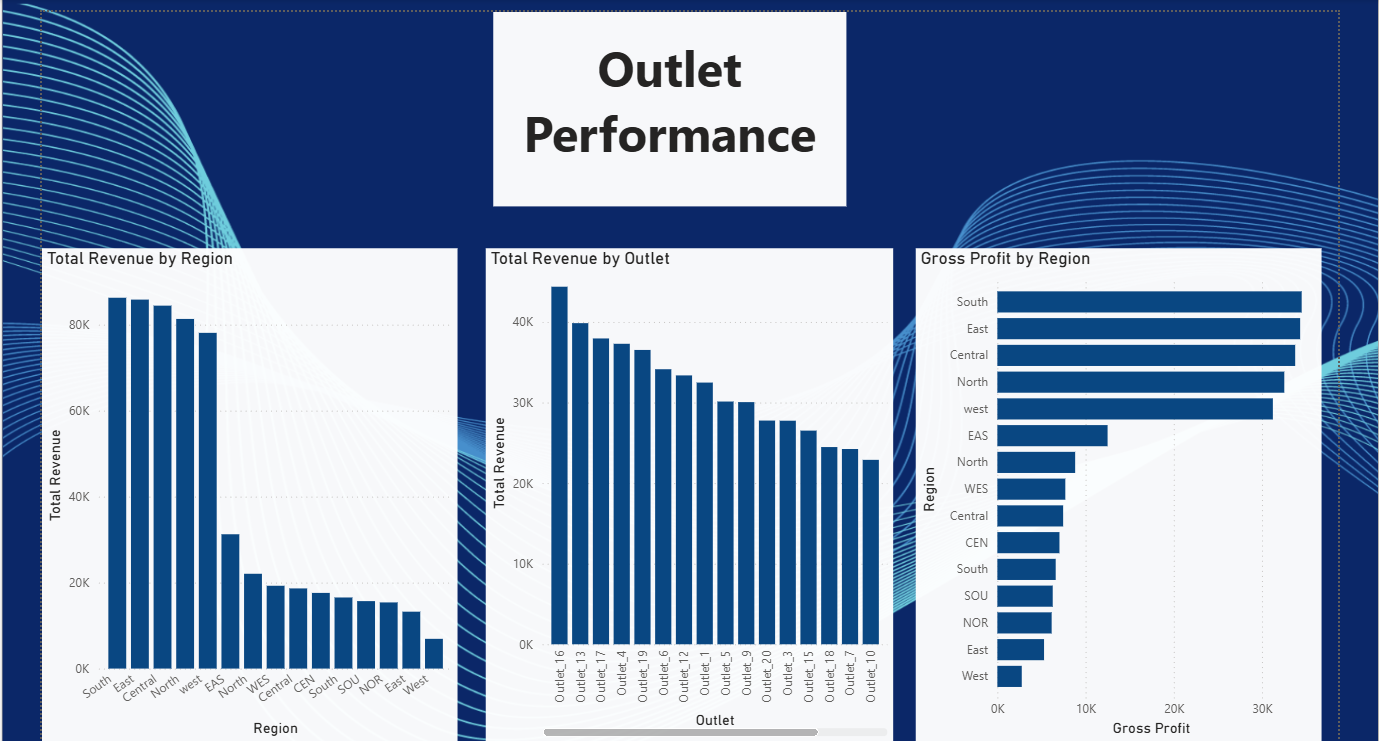

Layout of this report page (visuals, bound fields, positions):
{"tool":"powerbi","page":{"name":"Page 5","canvas":[1280,720],"ordinal":4},"visuals":[{"type":"textbox","box":[446,0,348.5,192.1],"z":0},{"type":"clusteredColumnChart","fields":{"Category":["pizza_sales_messy_1000.Region"],"Y":["pizza_sales_messy_1000.Total Revenue"]},"box":[0,233.3,410.3,487.1],"z":1000},{"type":"columnChart","fields":{"Category":["pizza_sales_messy_1000.Outlet"],"Y":["pizza_sales_messy_1000.Total Revenue"]},"box":[437.7,233.3,402.1,487.1],"z":2000},{"type":"barChart","fields":{"Category":["pizza_sales_messy_1000.Region"],"Y":["pizza_sales_messy_1000.Gross Profit"]},"box":[863.1,233.3,400.7,487.1],"z":3000}]}

Visuals, with their boxes on the page's 1280x720 design canvas (x1, y1, x2, y2). These are canvas units, not pixel positions in the 1379x741 screenshot, which may show the page scaled, cropped or inside an application window:
textbox: rect(446, 0, 794, 192)
clusteredColumnChart - pizza_sales_messy_1000.Region x pizza_sales_messy_1000.Total Revenue: rect(0, 233, 410, 720)
columnChart - pizza_sales_messy_1000.Outlet x pizza_sales_messy_1000.Total Revenue: rect(438, 233, 840, 720)
barChart - pizza_sales_messy_1000.Region x pizza_sales_messy_1000.Gross Profit: rect(863, 233, 1264, 720)
